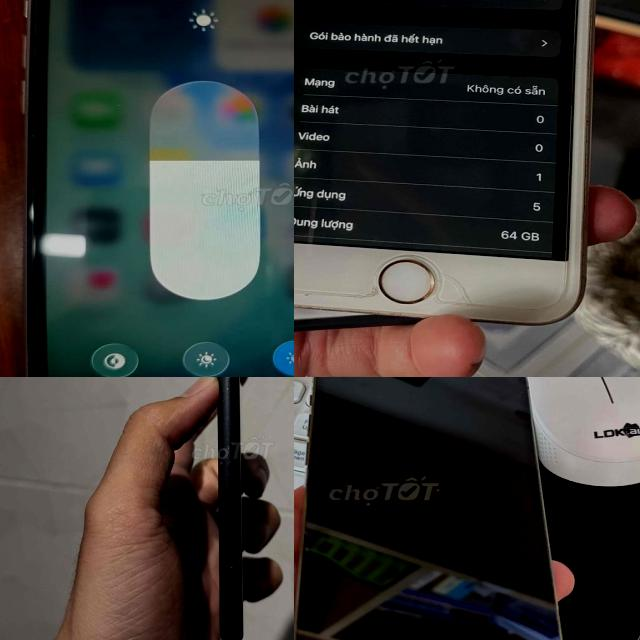gen_11: (7, 0, 294, 377), (198, 377, 274, 630)
gen_12_13: (294, 377, 570, 640)
gen_6: (294, 0, 636, 334)
scratch: (216, 377, 240, 534)
screen_defect: (436, 258, 496, 316)
